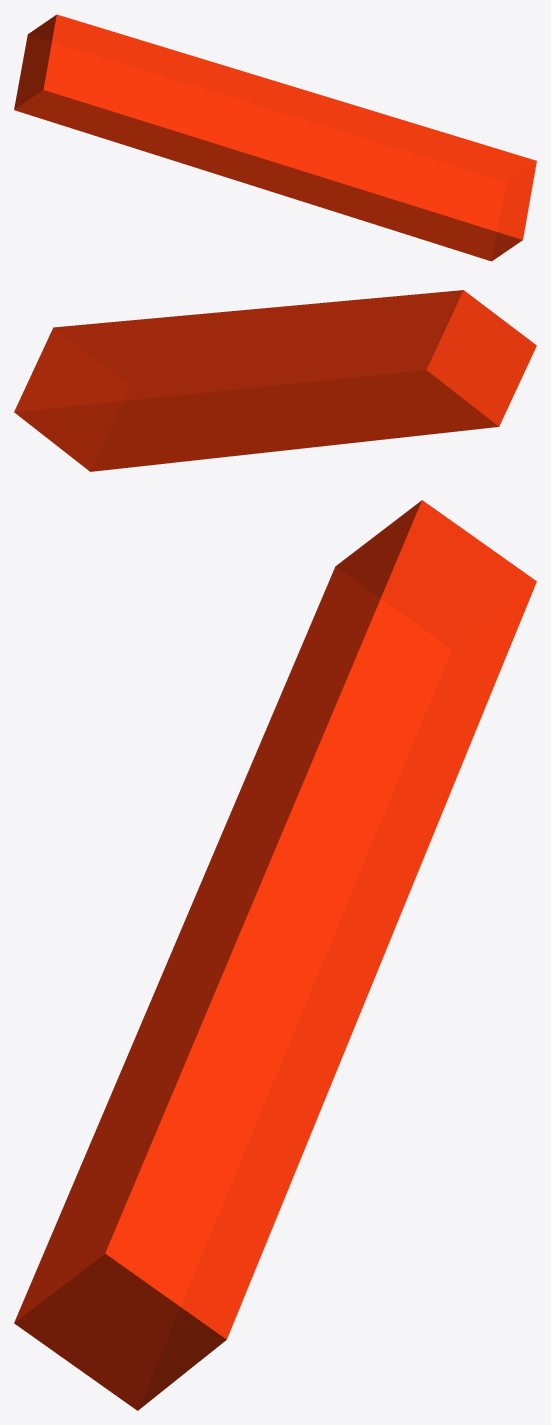
Rendered from Event_421278790_EBrechit_30.fbx.
3 renders of one model, top to bottom at view 1: azimuth 30°, elevation 25°; view 2: azimuth 150°, elevation 25°; view 3: azimuth 270°, elevation 25°, orthographic. The views are drawn at different scales.
Parts seen in each view (by area): view 1: Model; view 2: Model; view 3: Model.
Part boxes in pixels (x1,y1,x2,y2): Model: (14, 14, 536, 261); Model: (14, 290, 536, 471); Model: (14, 500, 536, 1410).
Size of the model in its own units: 0.3776 by 0.2346 by 0.1985.
